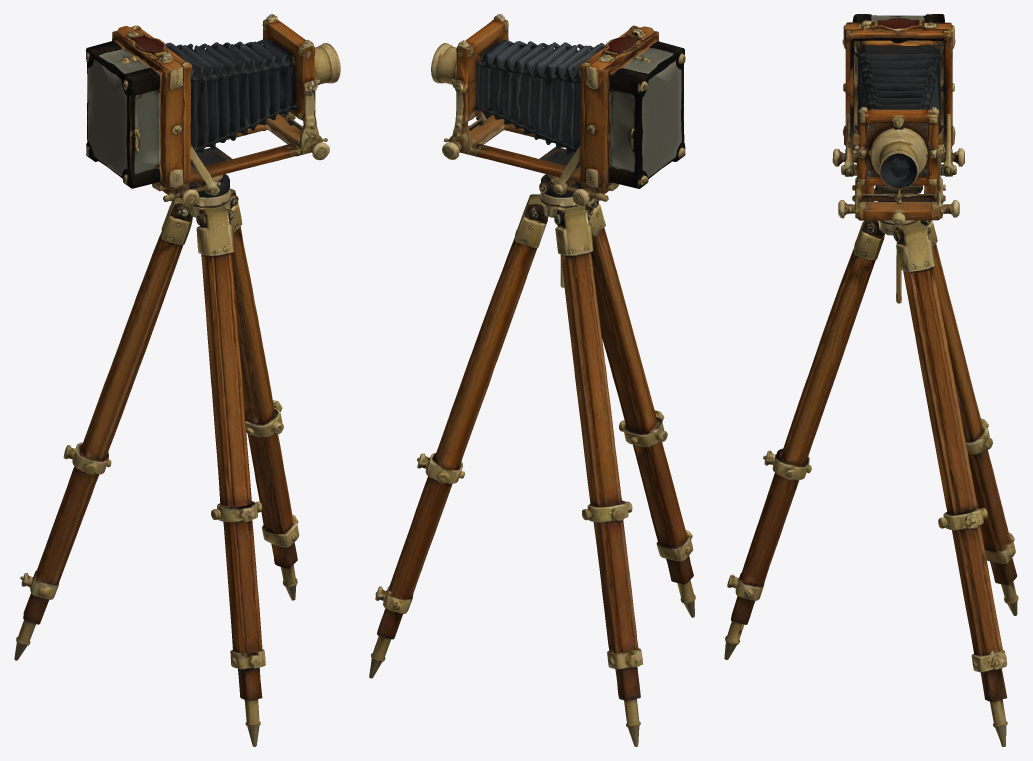
Rendered from camera.glb.
3 renders of one model, left to right at view 1: azimuth 30°, elevation 25°; view 2: azimuth 150°, elevation 25°; view 3: azimuth 270°, elevation 25°, orthographic. The views are drawn at different scales.
Parts seen in each view (by area): view 1: tripo_node_408e6f2a-72b8-450f-9c30-eaafec8458f8; view 2: tripo_node_408e6f2a-72b8-450f-9c30-eaafec8458f8; view 3: tripo_node_408e6f2a-72b8-450f-9c30-eaafec8458f8.
Part boxes in pixels (x1,y1,x2,y2): tripo_node_408e6f2a-72b8-450f-9c30-eaafec8458f8: (14, 14, 340, 746); tripo_node_408e6f2a-72b8-450f-9c30-eaafec8458f8: (369, 14, 695, 746); tripo_node_408e6f2a-72b8-450f-9c30-eaafec8458f8: (724, 14, 1018, 746).
Bounding box in the file's own units: 0.4451 × 1 × 0.4218.
1 material, 1 textured.
